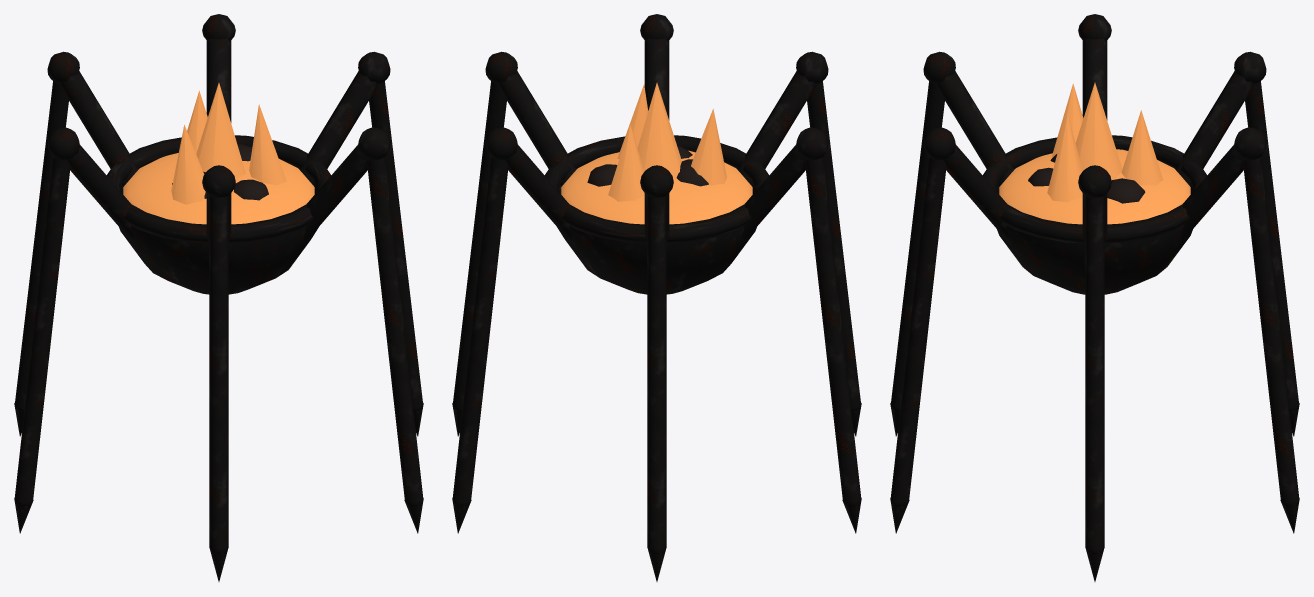
File: crache-cendre.glb
3 renders of one model, left to right at view 1: azimuth 30°, elevation 25°; view 2: azimuth 150°, elevation 25°; view 3: azimuth 270°, elevation 25°, orthographic.
Visible parts, largest first — view 1: knee (×6), body, thigh (×5); view 2: knee (×6), body, thigh (×5); view 3: knee (×6), body, thigh (×5).
Part boxes in pixels (x1=…): knee (×6): x1=14, y1=14, x2=423, y2=581; body: x1=106, y1=82, x2=331, y2=294; thigh (×5): x1=59, y1=38, x2=378, y2=241; knee (×6): x1=452, y1=14, x2=861, y2=581; body: x1=544, y1=82, x2=769, y2=294; thigh (×5): x1=497, y1=38, x2=816, y2=241; knee (×6): x1=890, y1=14, x2=1299, y2=581; body: x1=982, y1=82, x2=1207, y2=294; thigh (×5): x1=935, y1=38, x2=1254, y2=241.
Bounding box in the file's own units: 1.73 × 1.64 × 1.51.
Materials: 4 (2 with a texture image).
